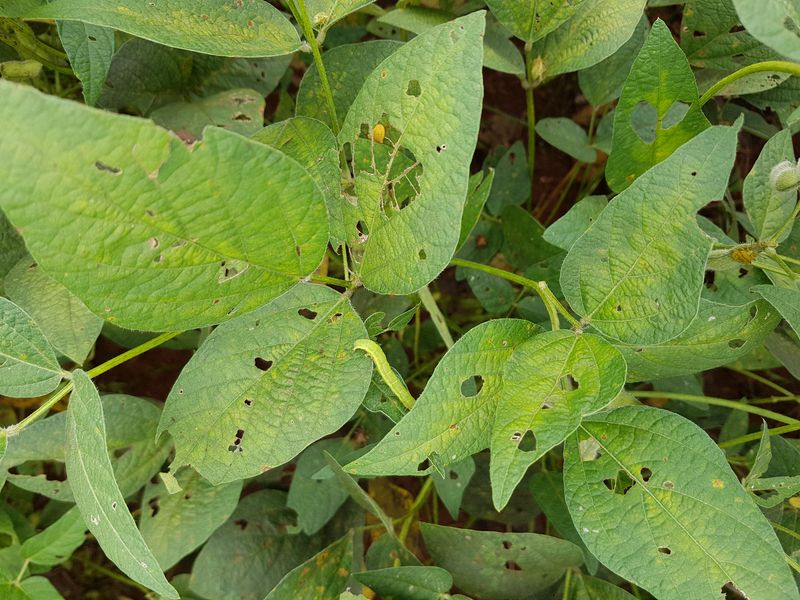Anticarsia_gemmatalis: (342, 331, 422, 420)
Euschistus_heros_ninfa: (726, 243, 759, 271), (364, 119, 390, 149), (310, 9, 330, 31)
